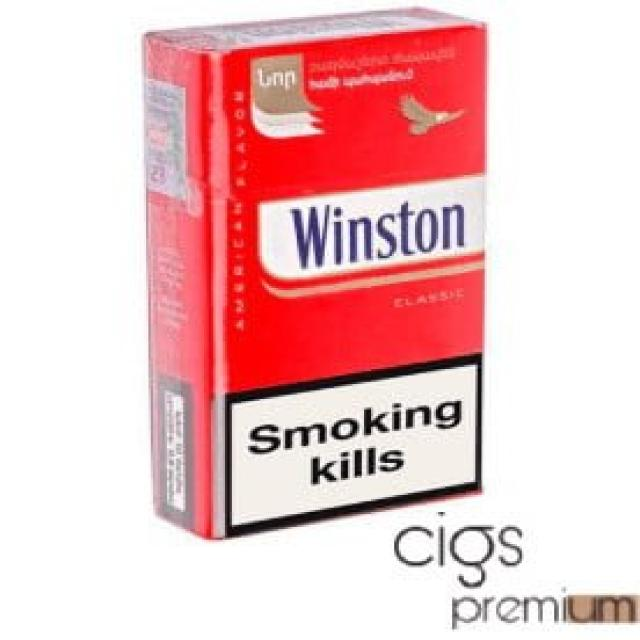winston: (148, 0, 496, 544)
